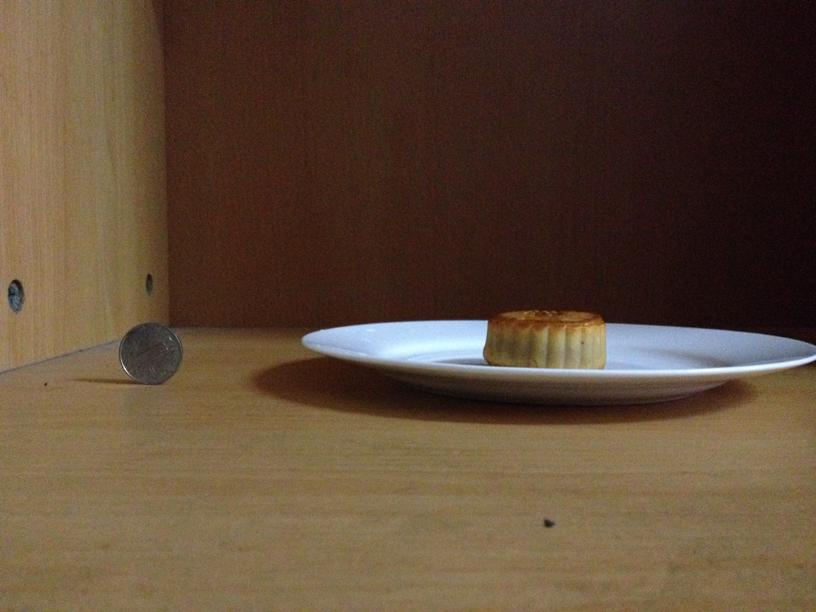coin: (117, 321, 182, 383)
mooncake: (485, 305, 606, 369)
